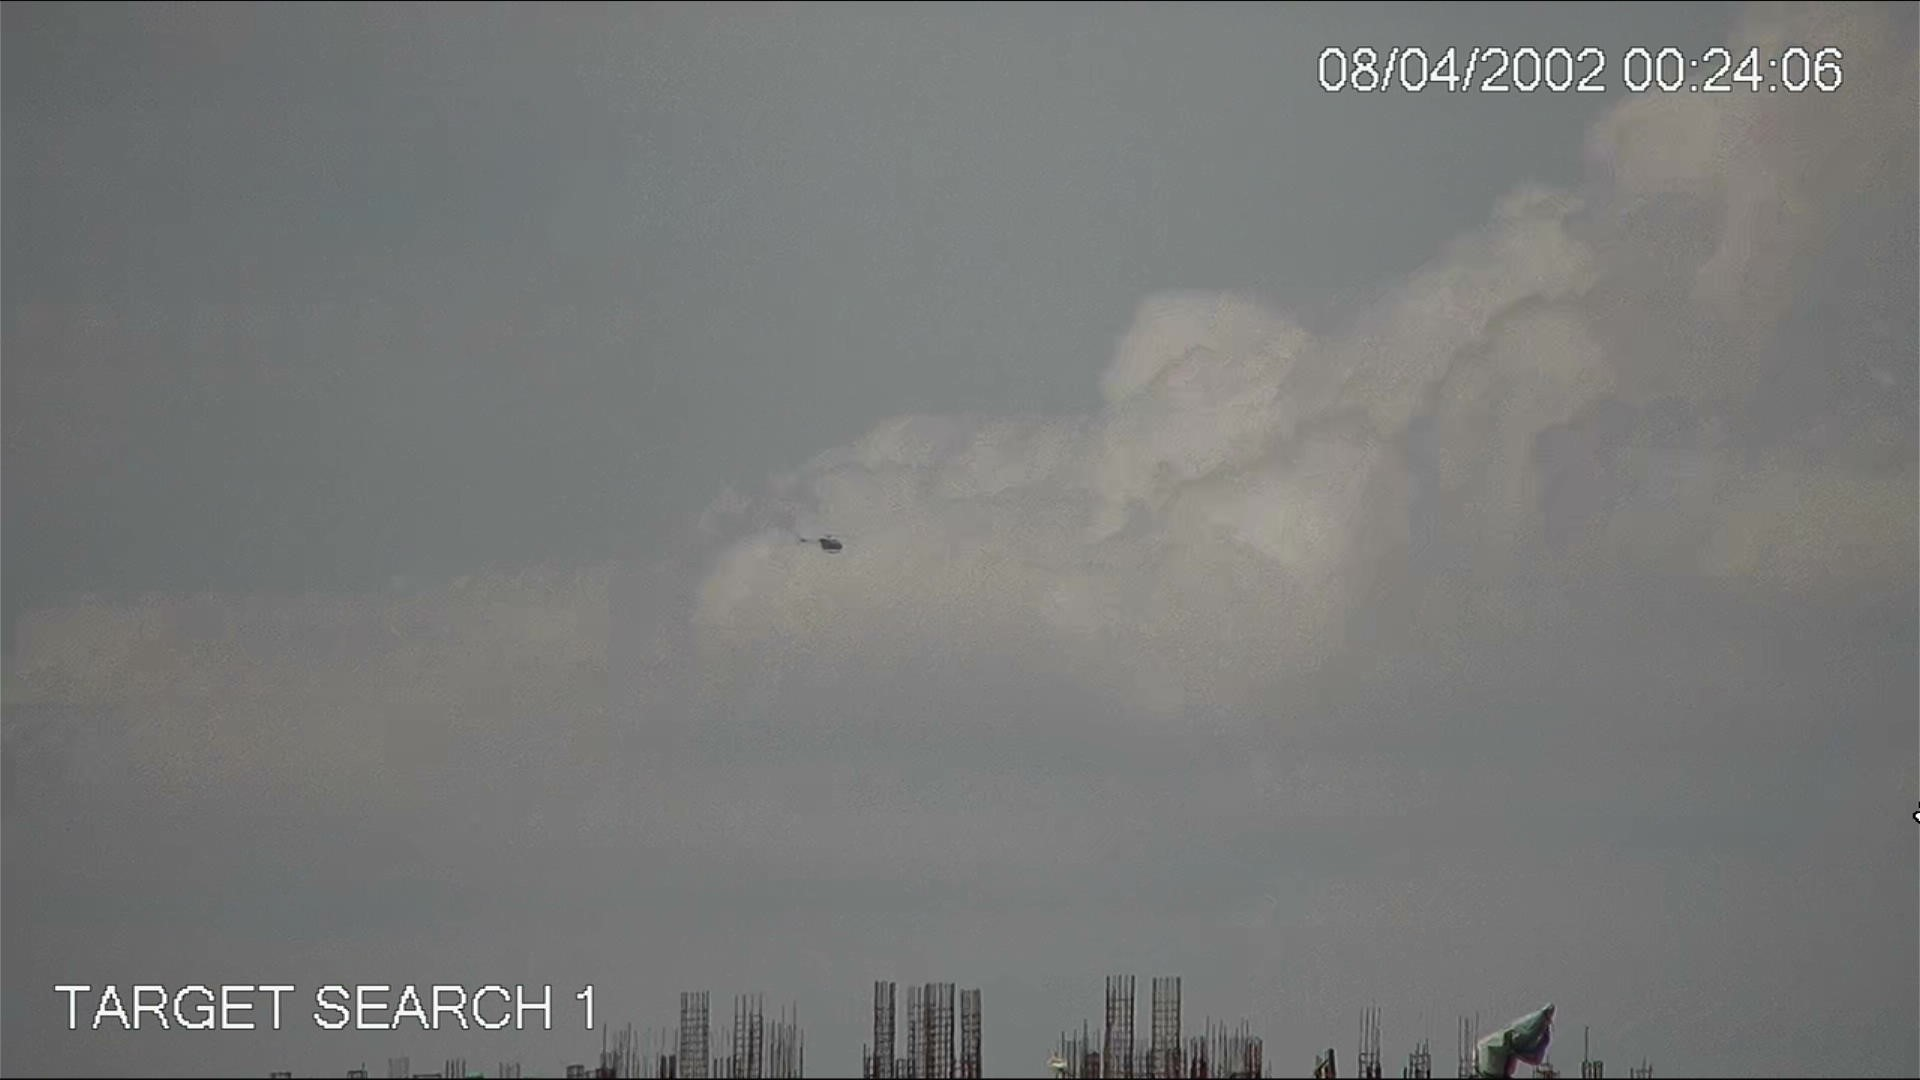SU_30: (796, 527, 847, 555)
